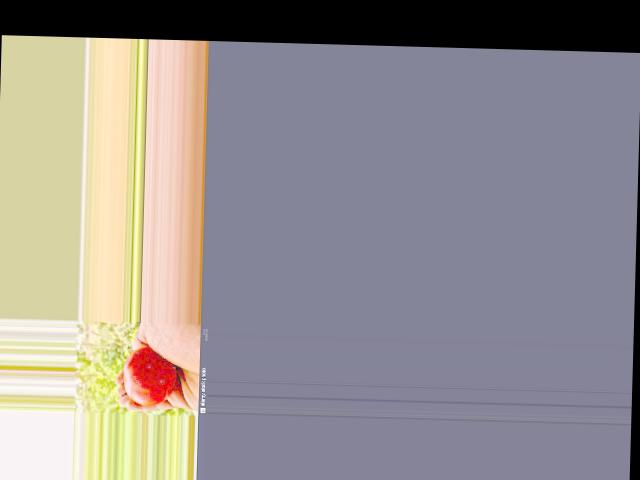tomato: (123, 346, 177, 405)
